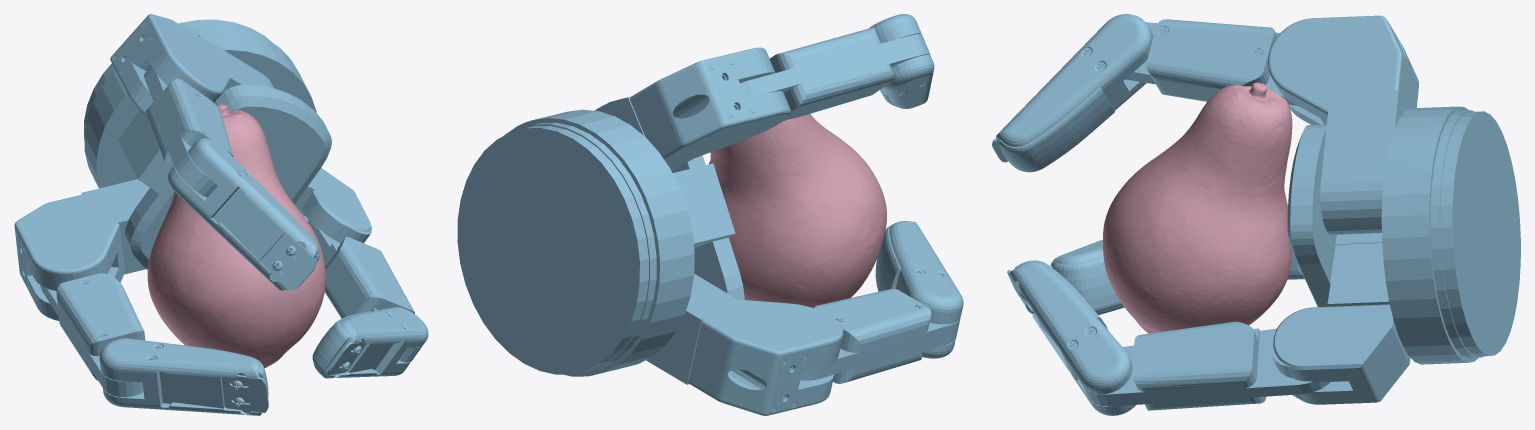
3 renders of one model, left to right at view 1: azimuth 30°, elevation 25°; view 2: azimuth 150°, elevation 25°; view 3: azimuth 270°, elevation 25°, orthographic. The views are drawn at different scales.
Parts seen in each view (by area): view 1: world, pear.stl; view 2: world, pear.stl; view 3: world, pear.stl.
Part boxes in pixels (x1,y1,x2,y2): world: [14, 14, 428, 415]; pear.stl: [147, 104, 325, 368]; world: [457, 14, 963, 415]; pear.stl: [709, 114, 886, 307]; world: [992, 14, 1520, 415]; pear.stl: [1103, 82, 1292, 333].
Size of the model in its own units: 0.1482 by 0.1267 by 0.1833.
